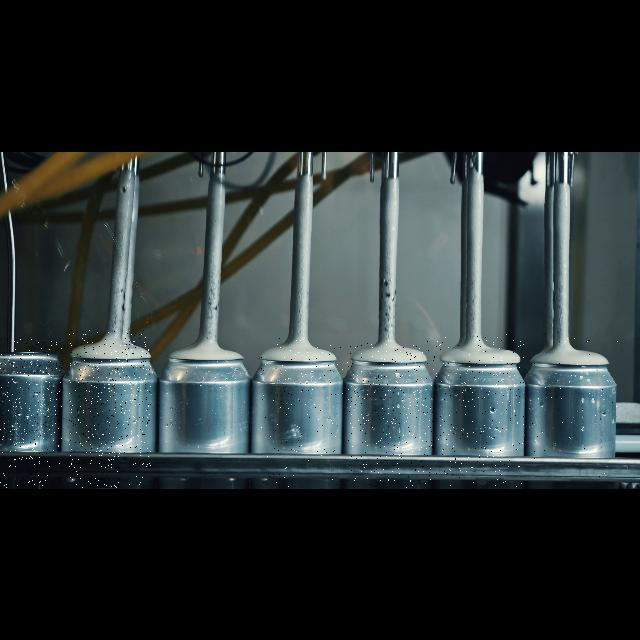empty: (0, 338, 62, 488)
full: (527, 336, 619, 488), (436, 334, 524, 488), (347, 340, 435, 488), (69, 330, 151, 488), (261, 338, 343, 488), (160, 339, 250, 475)
